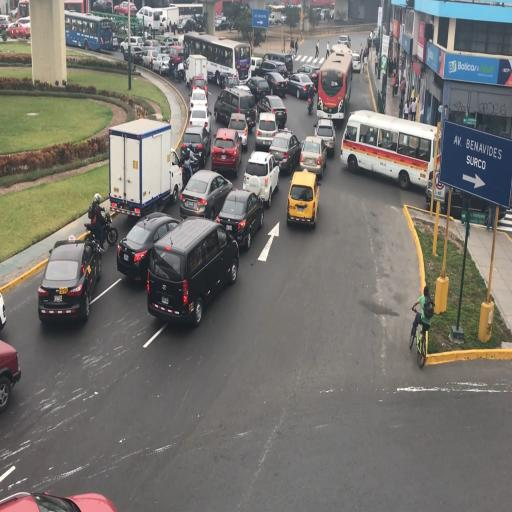auto: (146, 216, 236, 324), (38, 234, 100, 323), (116, 211, 182, 283), (424, 176, 508, 222), (179, 169, 232, 222), (216, 187, 262, 248), (2, 489, 116, 512), (286, 171, 319, 230), (244, 148, 278, 205), (215, 86, 255, 132), (0, 337, 21, 415), (210, 128, 244, 176), (268, 130, 300, 177), (180, 125, 210, 172), (299, 135, 326, 178), (259, 92, 287, 128), (255, 111, 279, 150), (227, 111, 250, 151), (314, 118, 336, 156), (262, 70, 289, 98), (288, 72, 315, 100), (246, 76, 272, 104), (259, 58, 288, 82), (188, 107, 210, 138), (166, 44, 186, 77), (5, 17, 31, 39), (135, 6, 157, 30), (150, 53, 171, 75), (157, 11, 176, 34), (120, 35, 143, 53), (142, 49, 159, 70), (114, 1, 136, 16), (160, 36, 178, 50), (142, 38, 161, 50), (351, 52, 361, 73), (170, 147, 180, 167), (0, 14, 10, 32), (215, 16, 225, 30), (338, 39, 348, 48), (281, 12, 287, 22)
bus: (345, 110, 438, 190), (184, 31, 244, 87), (316, 49, 350, 126), (65, 12, 113, 52), (170, 2, 204, 32), (63, 0, 85, 16), (17, 0, 30, 19)
camion: (108, 117, 175, 219), (185, 53, 208, 91)
moto: (86, 205, 119, 247)
